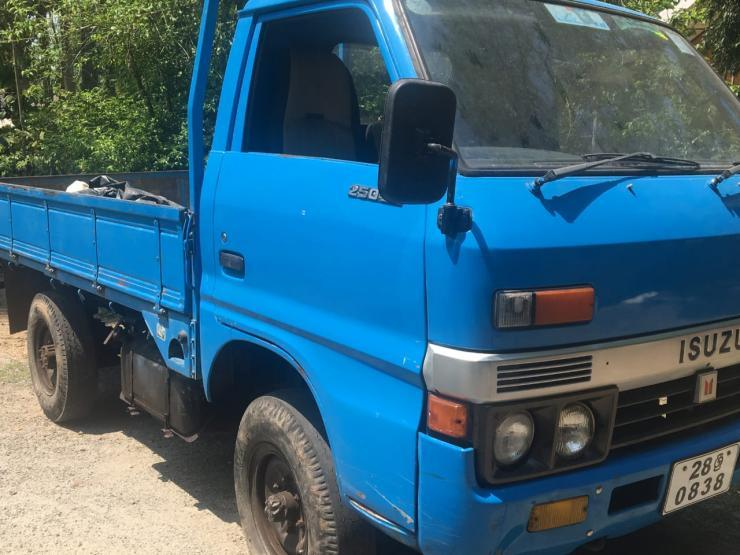truck: (1, 1, 740, 555)
